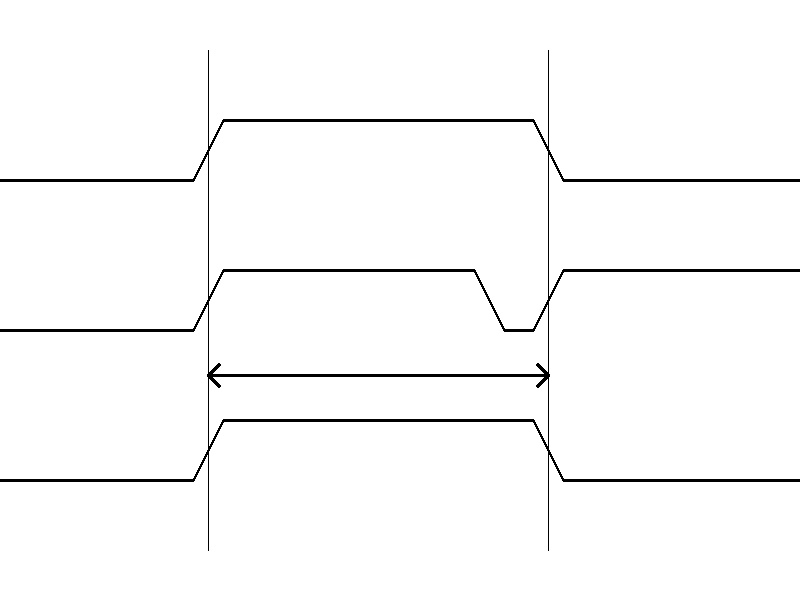double_arrow: (208, 360, 548, 390)
